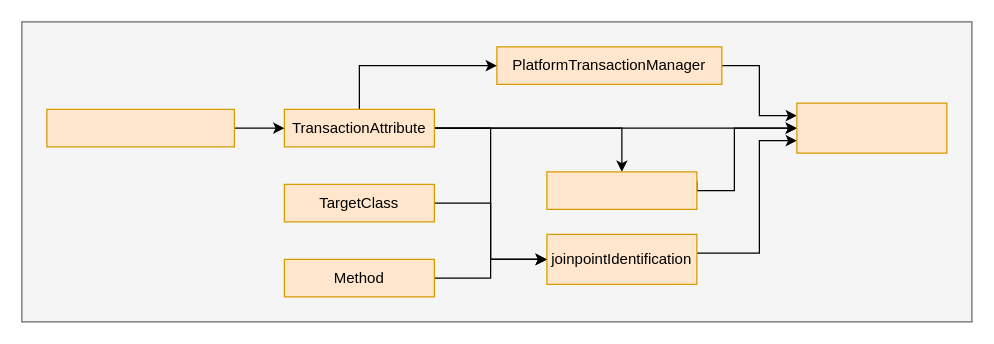
Some shapes in this 994 by 344 pixel diagram are drawn without their labels. The centre of each missing label's shape, as x and y in pixels:
"TransactionAttributeSource" belongs at pixel 140 127.
"TransactionInfo" belongs at pixel 871 127.
"TransactionStatus" belongs at pixel 621 190.
